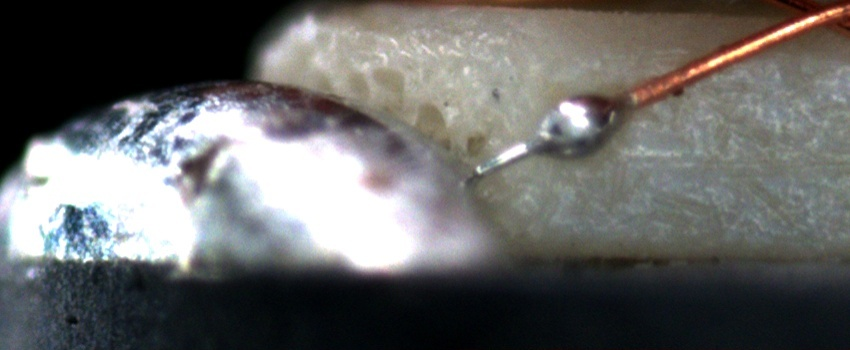CL: (766, 0, 849, 40)
DL: (554, 126, 850, 190)
TB: (531, 89, 637, 157)
TS: (476, 94, 627, 176)
TTCW: (457, 33, 769, 181)
